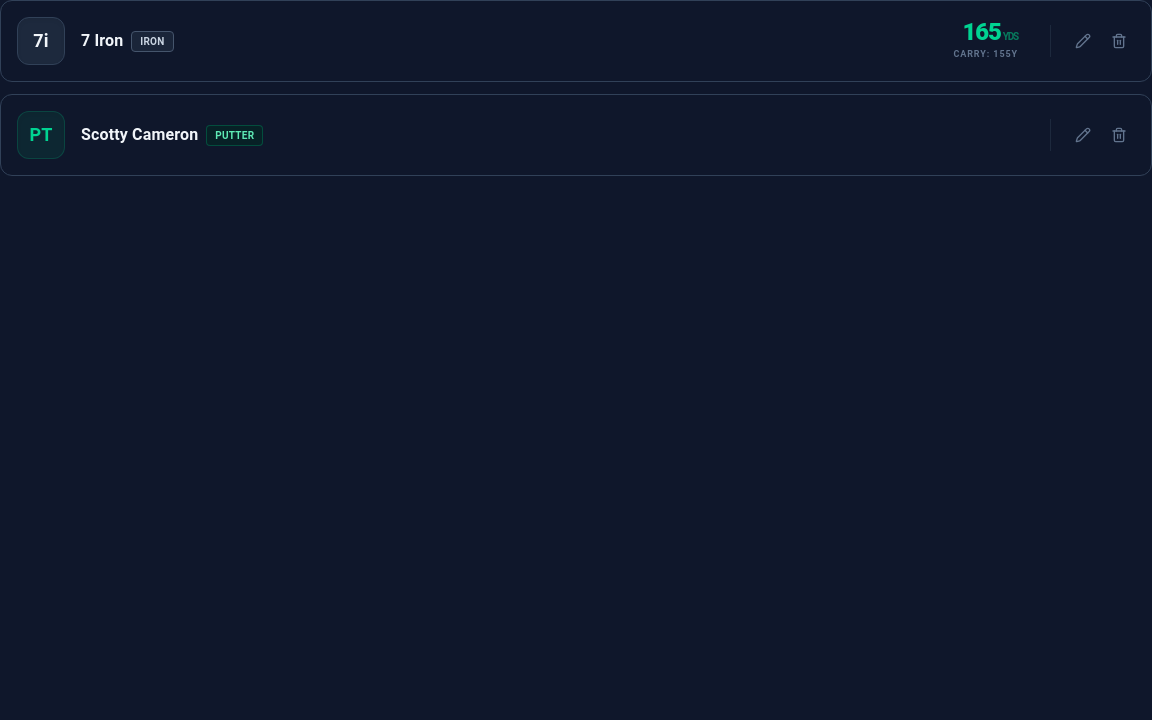
BagClubList Component › Edit Mode — Entering › shows inline edit inputs when Edit is clicked
Click the button named "Edit 7 Iron". click: (1083, 41)
box: x1=1067 y1=25 x2=1099 y2=57
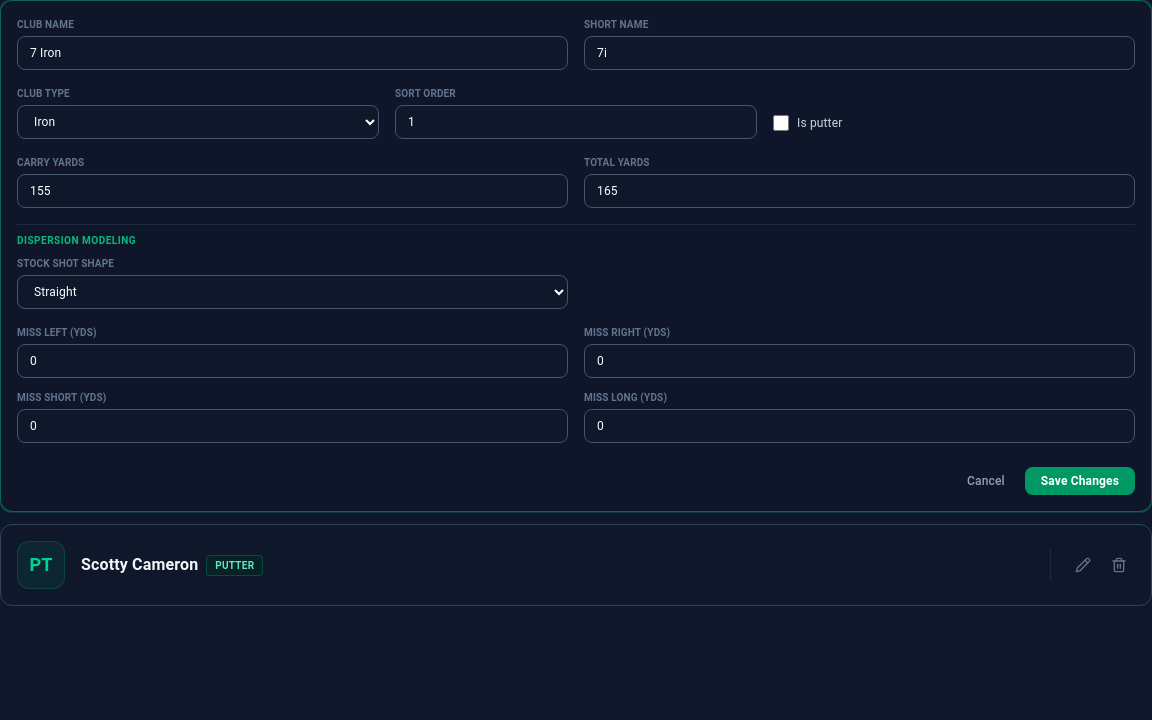
Now the field labelled "Club name" is shown, box x1=17 y1=36 x2=568 y2=70
Now the field labelled "Short name" is shown, box x1=584 y1=36 x2=1135 y2=70
Now the dropdown labelled "Club type" is shown, box x1=17 y1=105 x2=379 y2=139
